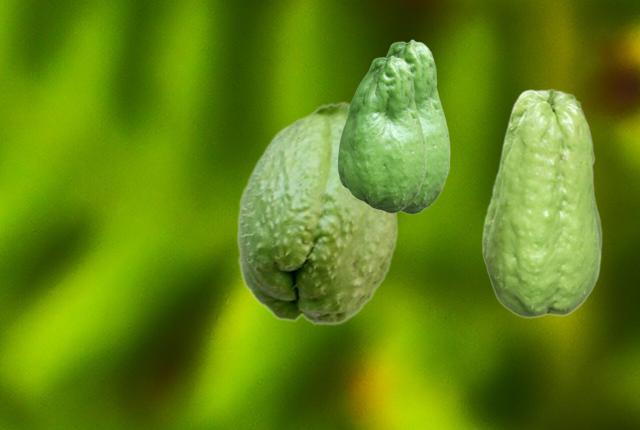sayote: (236, 100, 398, 325), (481, 88, 602, 318), (337, 55, 425, 212), (385, 39, 449, 213)
